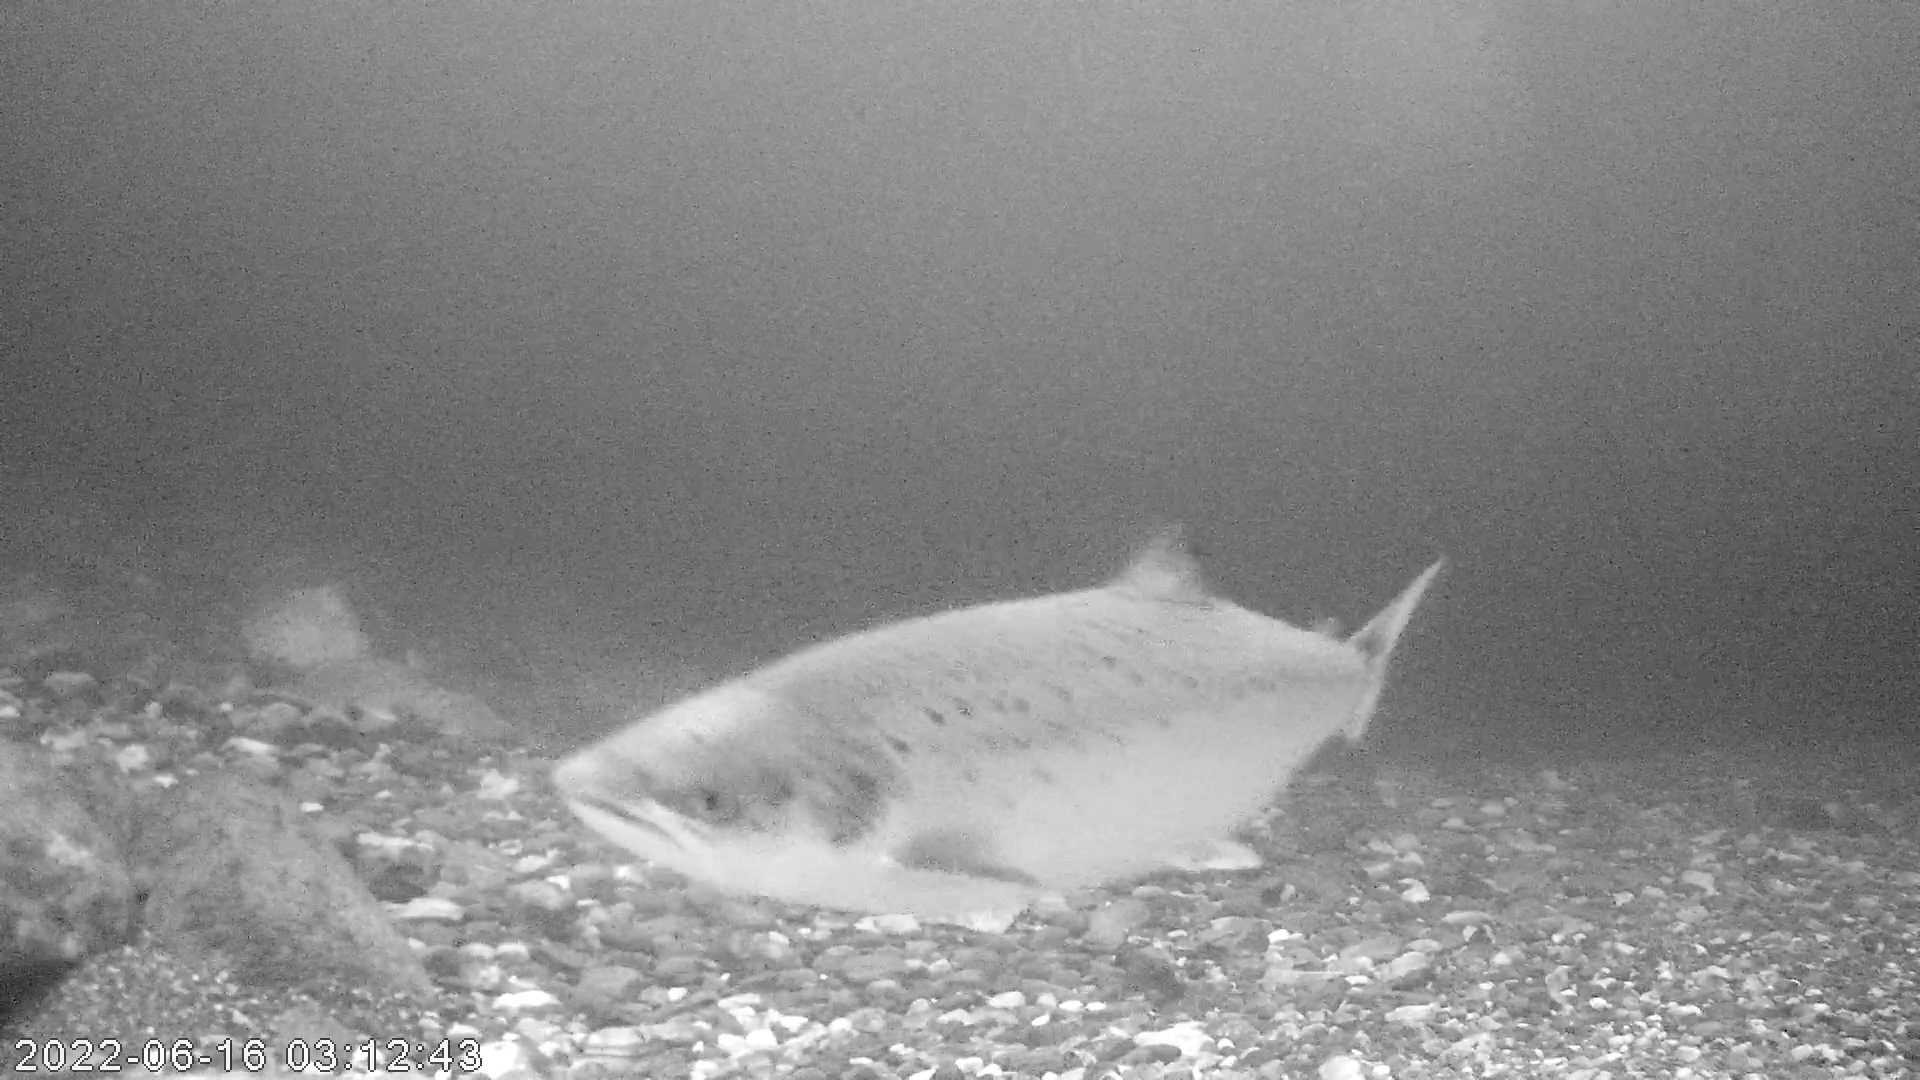salmon: (549, 514, 1451, 926)
